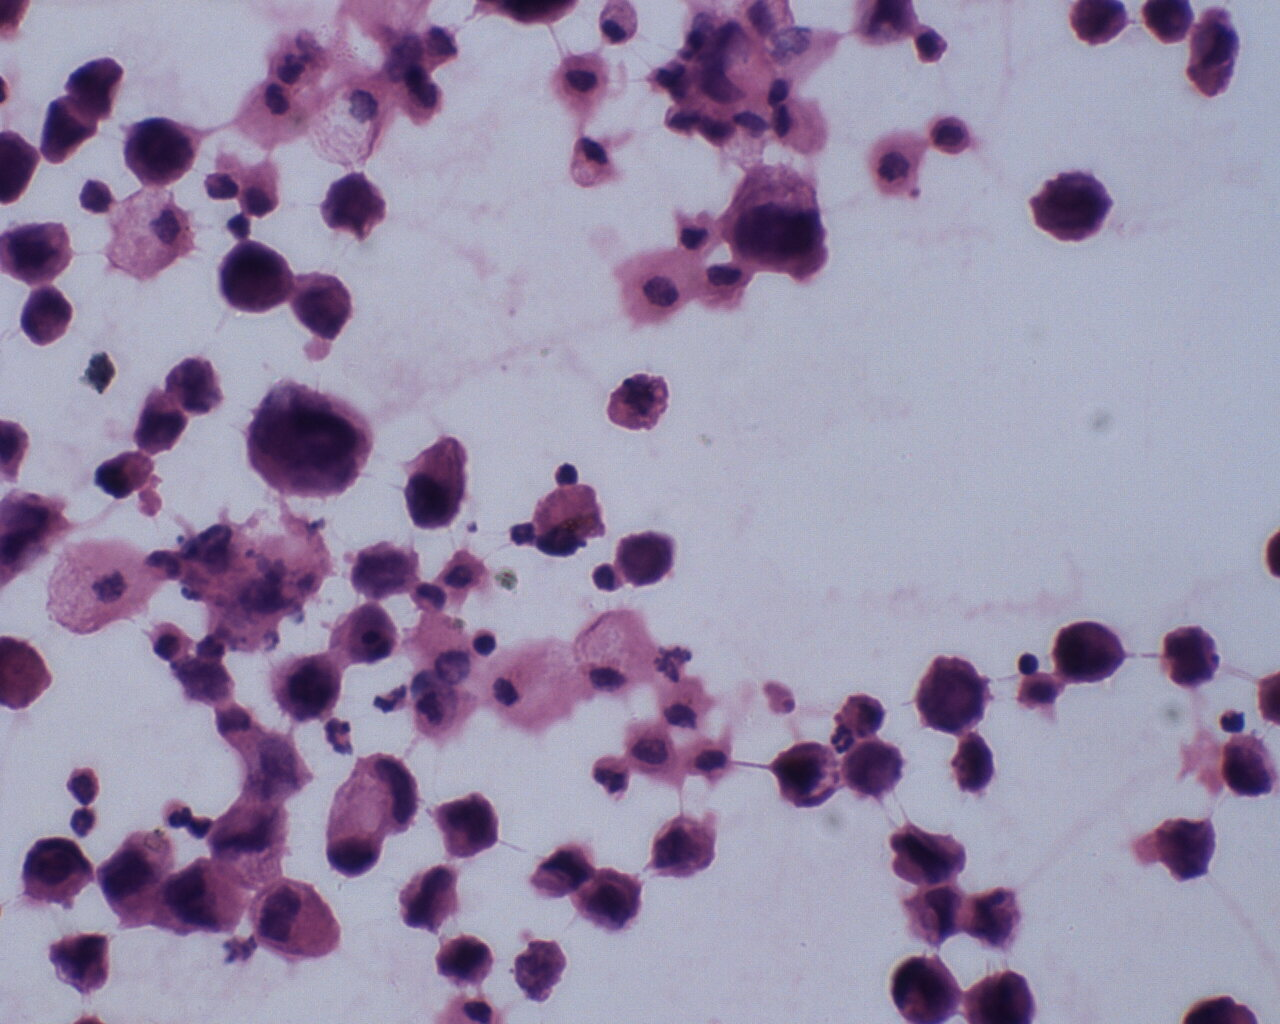ab: (246, 373, 377, 506), (717, 155, 837, 285), (246, 874, 348, 967), (399, 427, 478, 536), (1033, 163, 1114, 247), (434, 786, 513, 867), (216, 237, 293, 317), (122, 108, 200, 185), (20, 830, 95, 907), (770, 732, 844, 811), (917, 650, 986, 732), (889, 950, 965, 1024), (1184, 5, 1242, 101), (269, 651, 345, 724), (320, 170, 395, 243), (1157, 619, 1227, 693), (1054, 616, 1127, 686), (576, 865, 646, 937), (292, 270, 353, 340), (1220, 728, 1280, 797), (17, 285, 80, 347), (429, 929, 497, 984)
histo: (43, 536, 157, 636), (481, 636, 598, 732), (102, 186, 196, 283), (610, 242, 711, 332), (574, 601, 658, 693)
